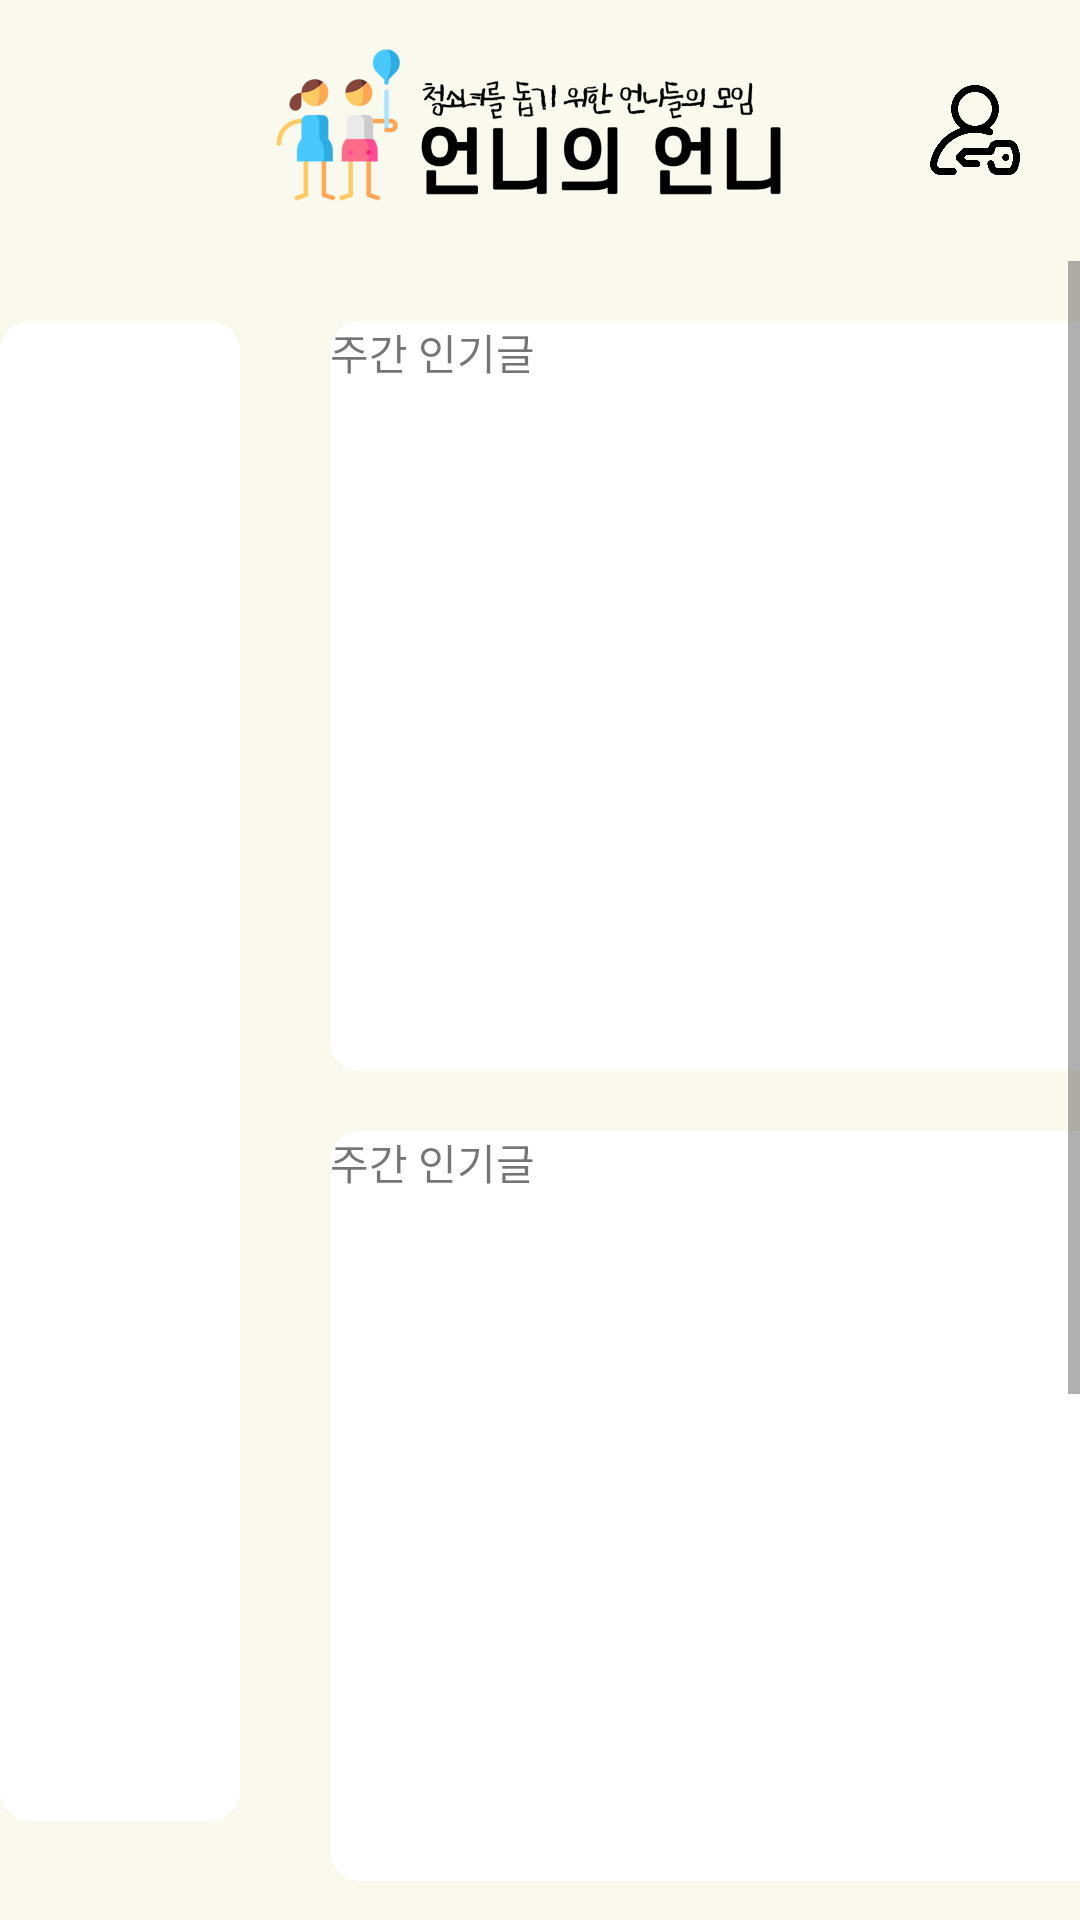

Locate icon controls on the screen. Image size 1080px×1920px, boxes as (x1, y1, x2, y2).
login: (930, 85, 1020, 175)
